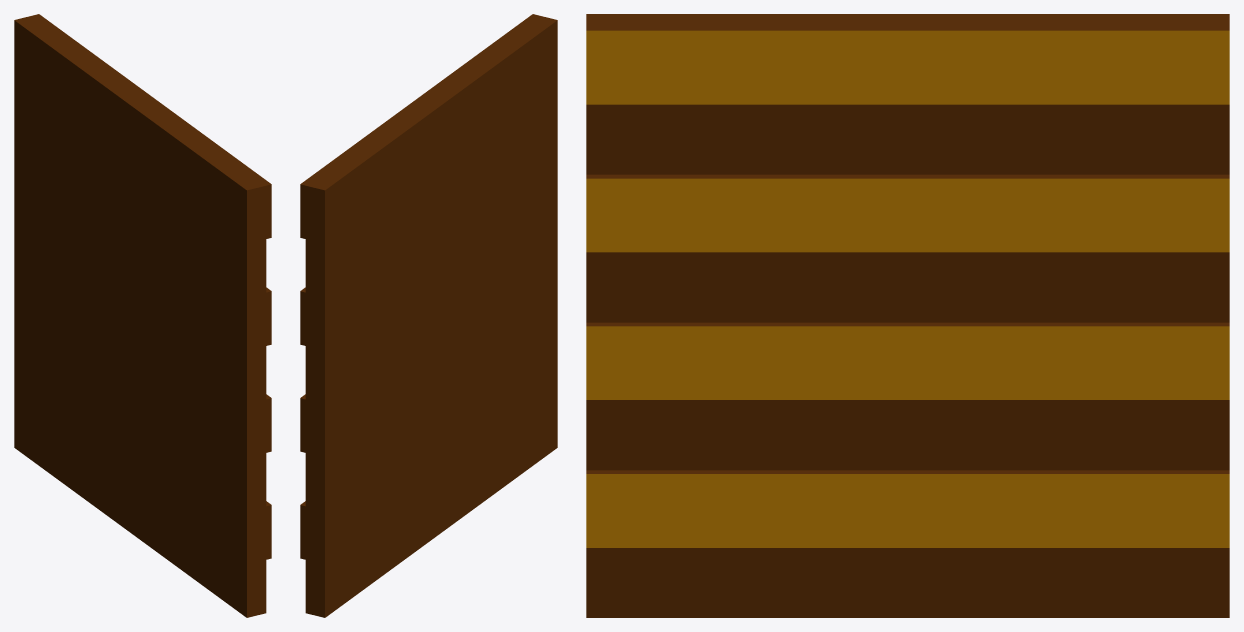
Rendered from climb_wall.fbx.
The picture shows the model from 3 angles, left to right: view 1: azimuth 30°, elevation 25°; view 2: azimuth 150°, elevation 25°; view 3: azimuth 270°, elevation 25°; orthographic projection. The views are drawn at different scales.
Visible parts, largest first — view 1: Cube.004; view 2: Cube.004; view 3: Cube.004.
Part boxes in pixels (x1=…): Cube.004: x1=14, y1=14, x2=271, y2=617; Cube.004: x1=300, y1=14, x2=557, y2=617; Cube.004: x1=586, y1=14, x2=1229, y2=617.
Size of the model in its own units: 25.37 by 416 by 410.
